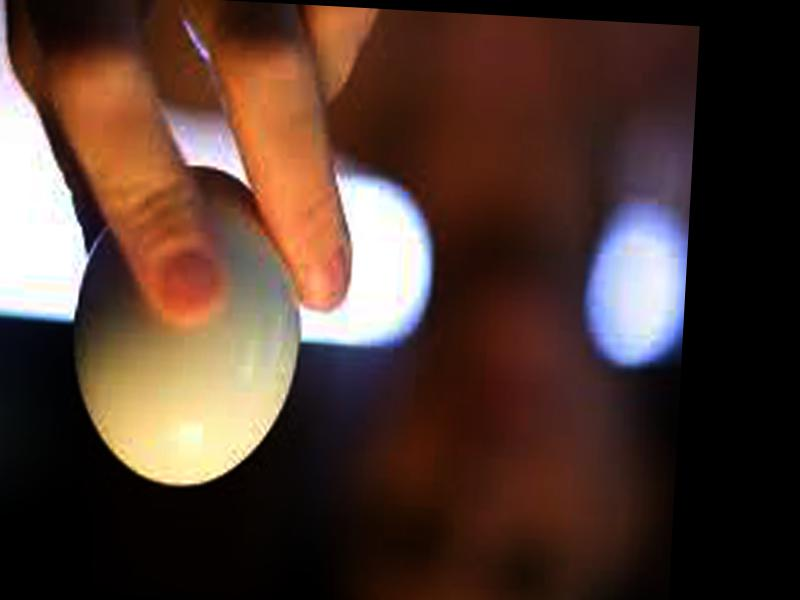Eggs: (69, 159, 313, 492)
